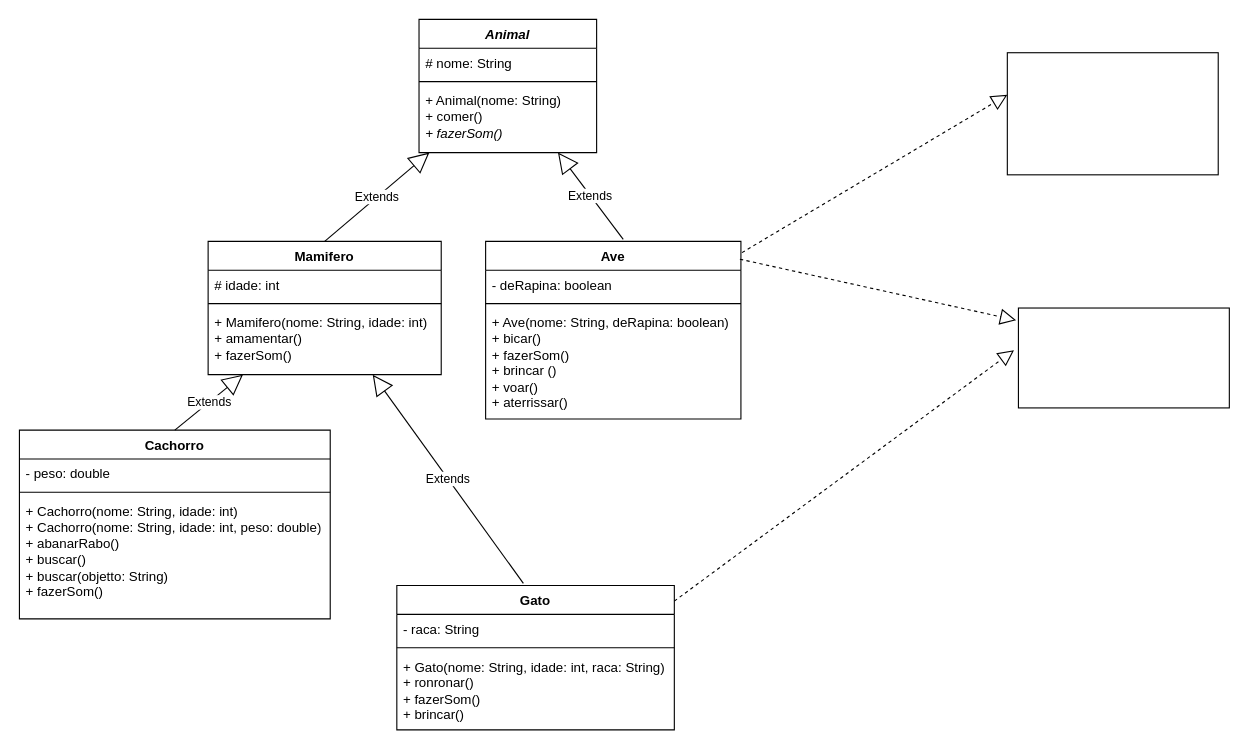
Image size: 1249x753. Some labels were removed from this diagram. Here are the shapes that lost their labels. From the top down, the centre of each, then its label:
At pixel 1112 113: "<<Interface>> Voador + voar() + aterrissar()".
At pixel 1123 357: "<<Interface>> Domestico + brincar()".
